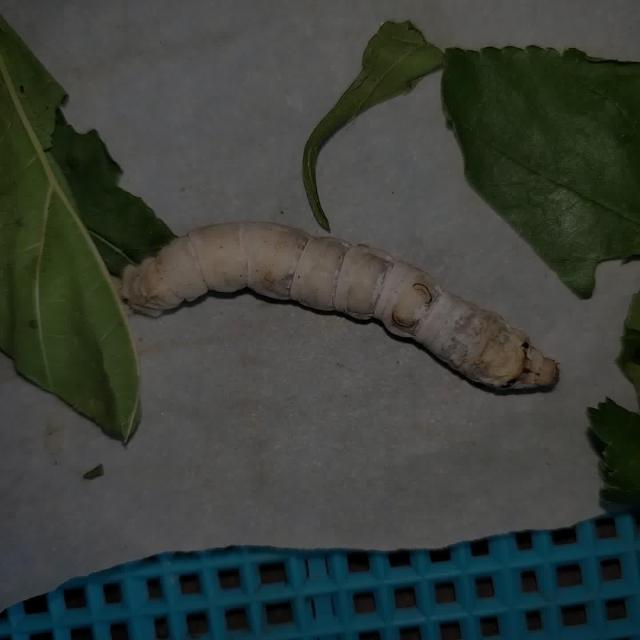Grasserie: (106, 194, 582, 418)
